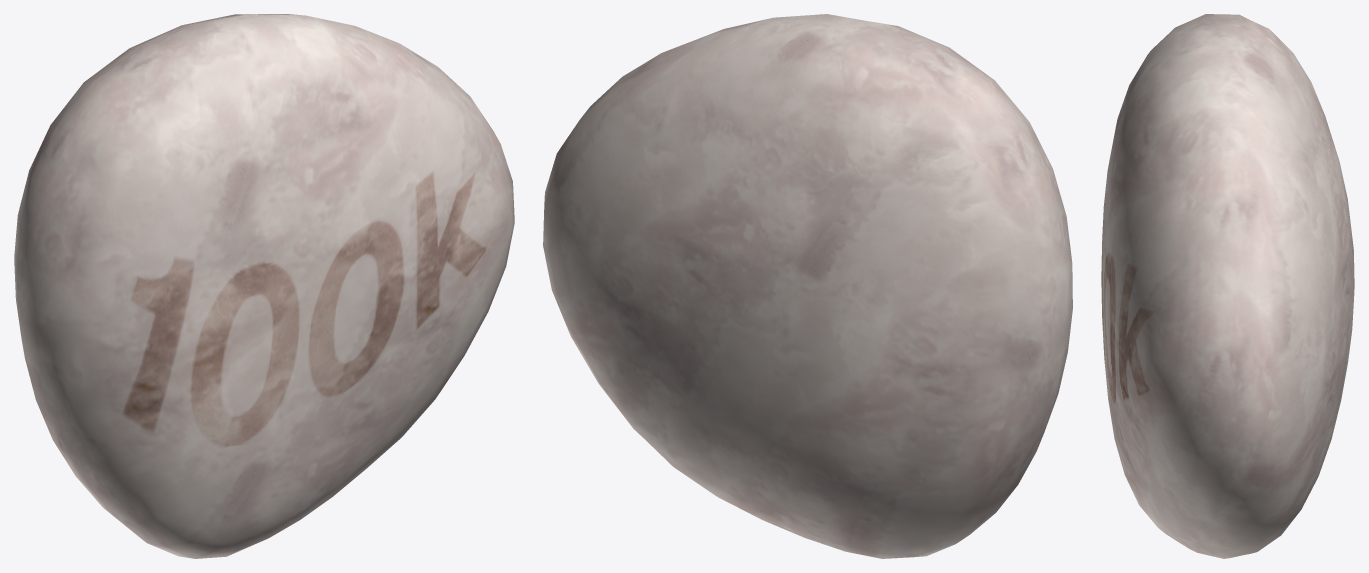
File: White_Sea_Stone_convert.obj
The picture shows the model from 3 angles, left to right: view 1: azimuth 30°, elevation 25°; view 2: azimuth 150°, elevation 25°; view 3: azimuth 270°, elevation 25°; orthographic projection. The views are drawn at different scales.
Parts seen in each view (by area): view 1: Stone_01_pivot; view 2: Stone_01_pivot; view 3: Stone_01_pivot.
Boxes of the visible parts, x1=… form: Stone_01_pivot: x1=14, y1=14, x2=514, y2=558; Stone_01_pivot: x1=543, y1=14, x2=1072, y2=558; Stone_01_pivot: x1=1101, y1=14, x2=1354, y2=558.
Bounding box in the file's own units: 5.53 × 5.55 × 2.56.
1 material, 1 textured.
